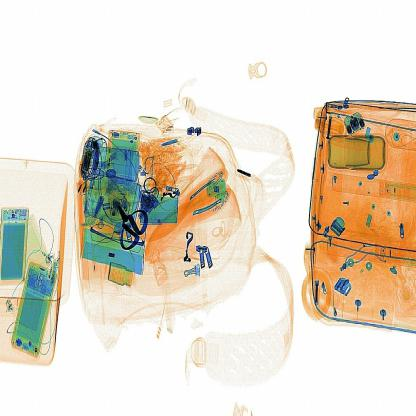gun: (103, 191, 154, 259)
